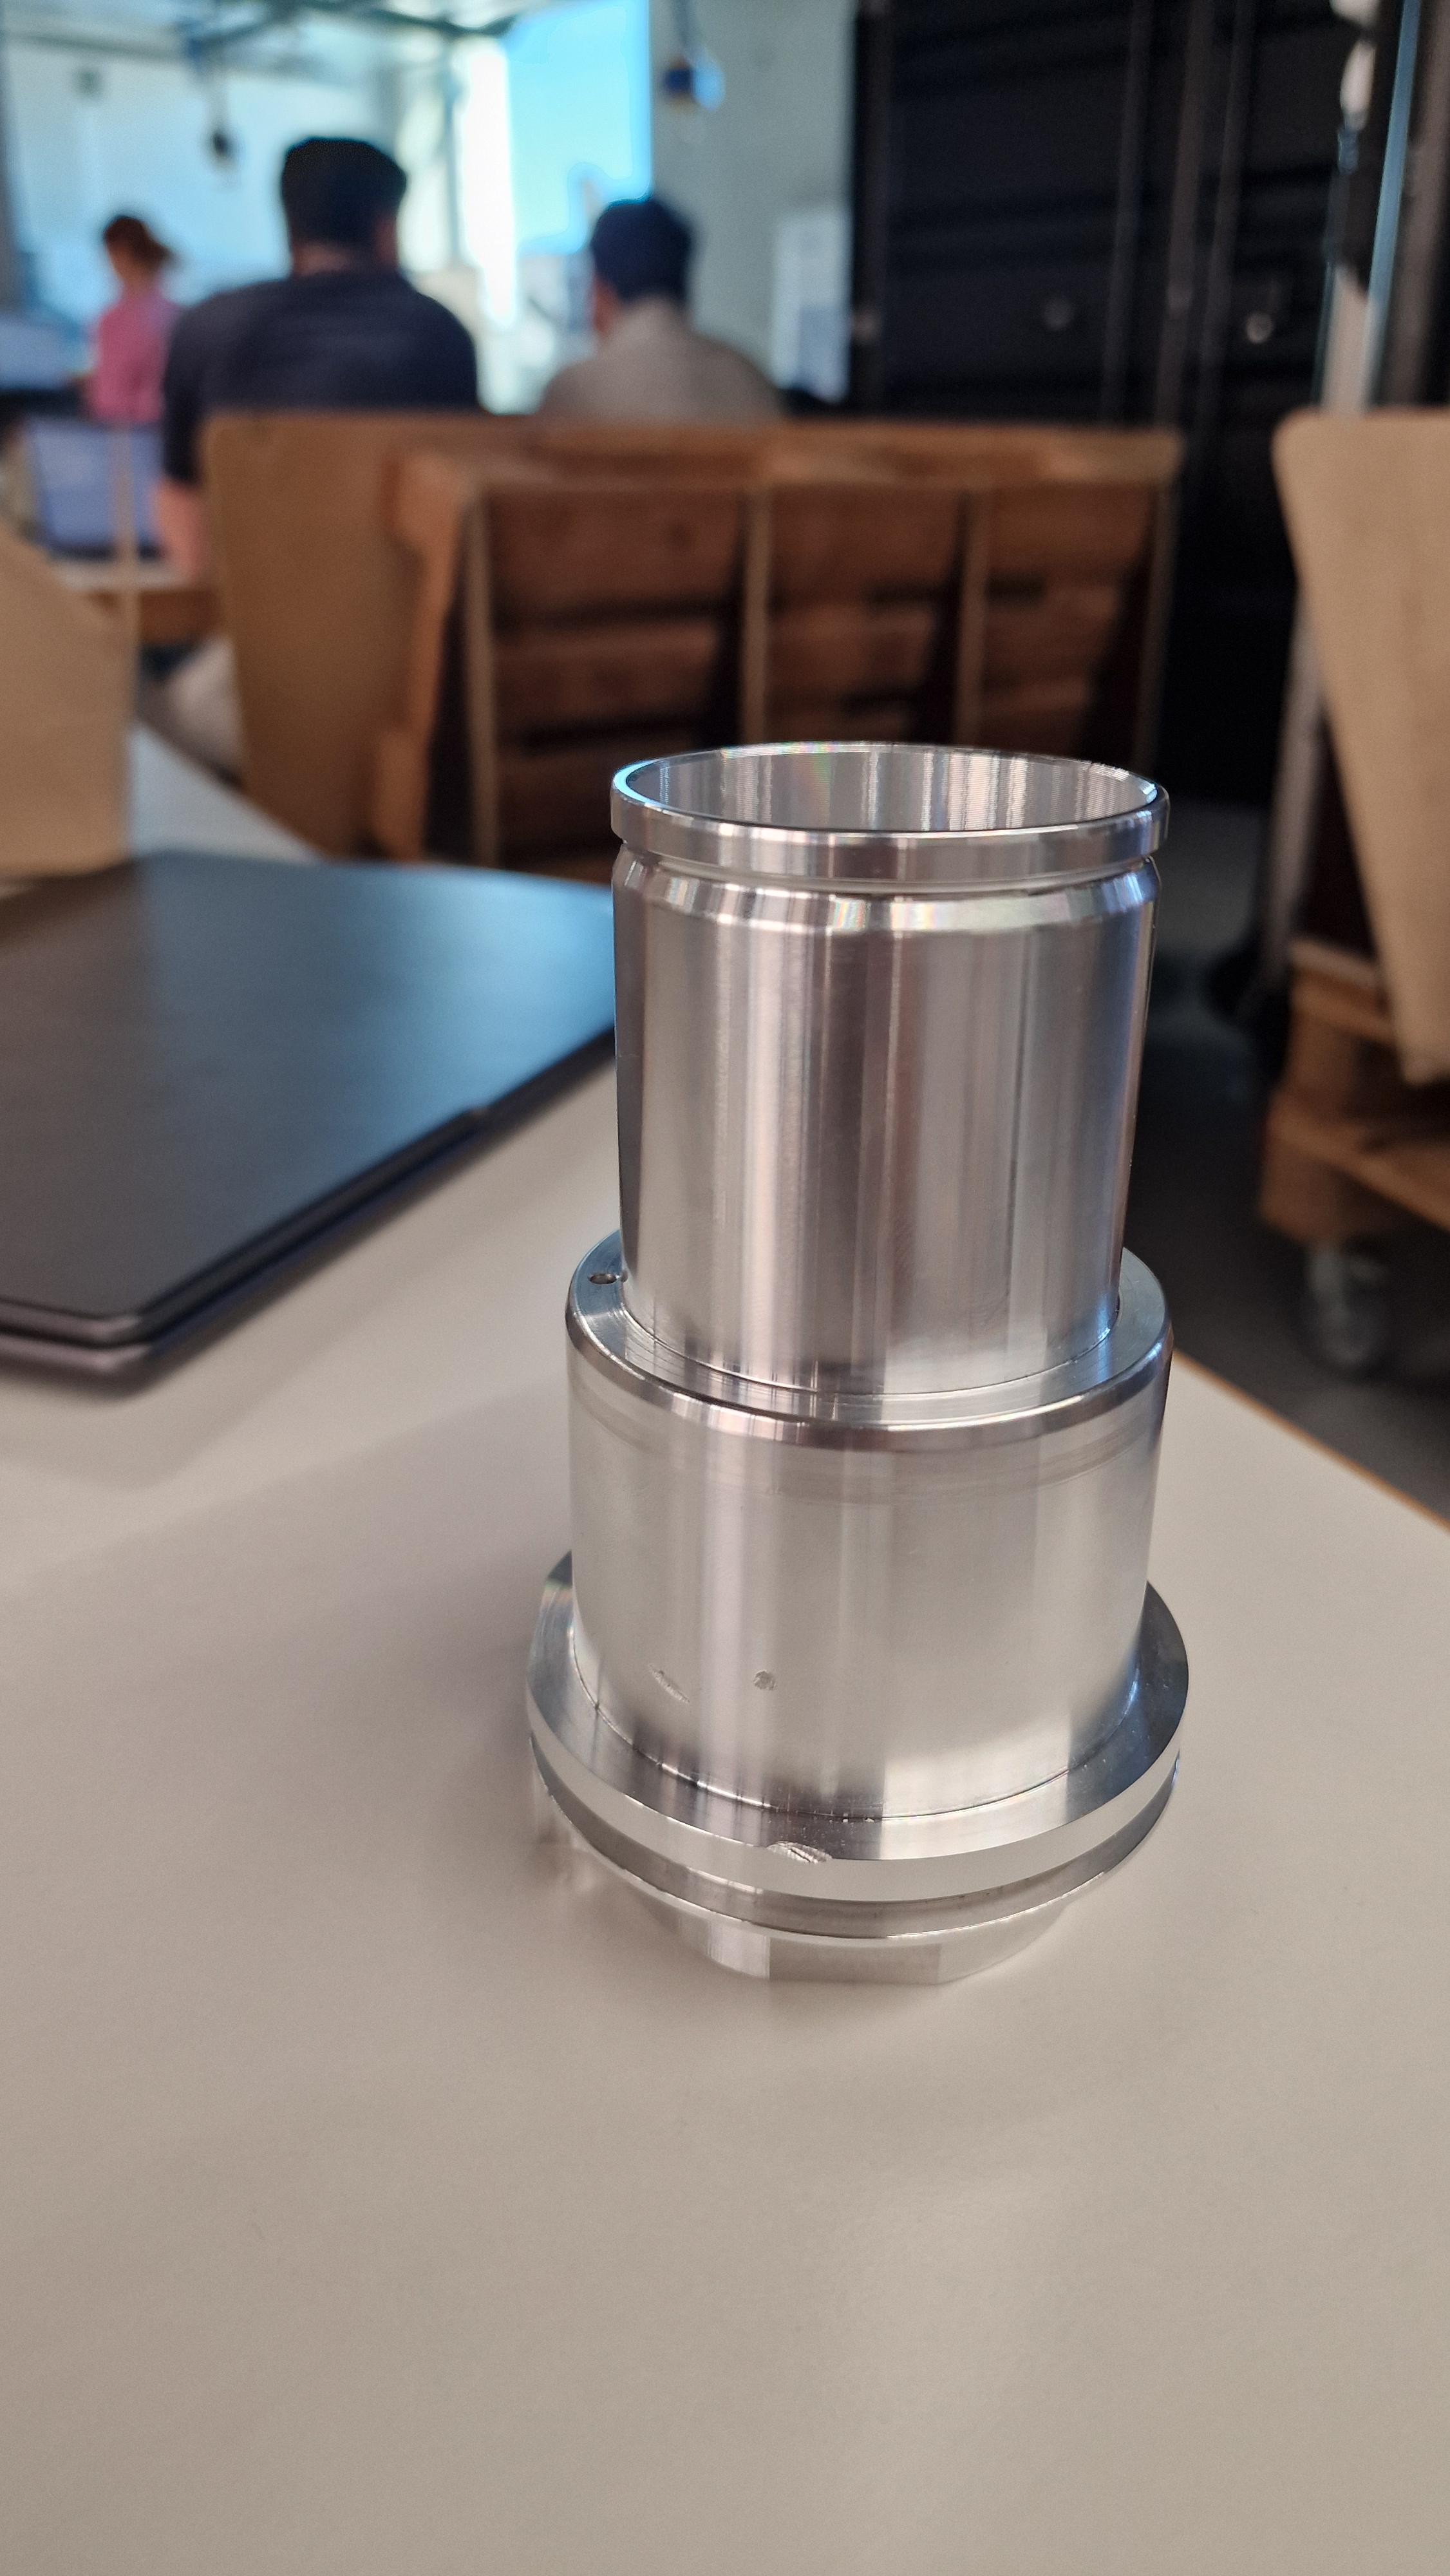damage: (638, 1661, 707, 1713), (760, 1835, 843, 1875), (746, 1663, 778, 1698)
objects: (504, 729, 1211, 1996)
